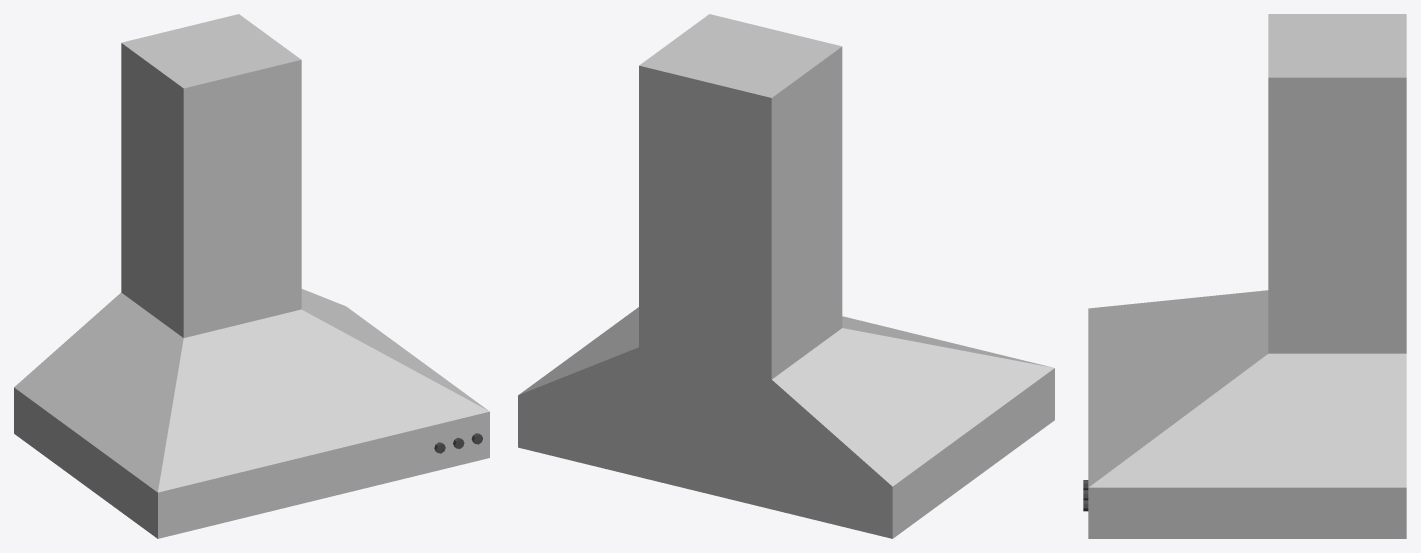
File: Hood3_C2_01.fbx
3 views of the same model, side by side, from view 1: azimuth 30°, elevation 25°; view 2: azimuth 150°, elevation 25°; view 3: azimuth 270°, elevation 25° (orthographic). The views are drawn at different scales.
Visible parts, largest first — view 1: Hood3_C2_01; view 2: Hood3_C2_01; view 3: Hood3_C2_01.
Part boxes in pixels (x1,y1,x2,y2): Hood3_C2_01: (14, 14, 489, 538); Hood3_C2_01: (518, 14, 1054, 538); Hood3_C2_01: (1083, 14, 1406, 538).
Bounding box in the file's own units: 60 × 63.1 × 45.72.
